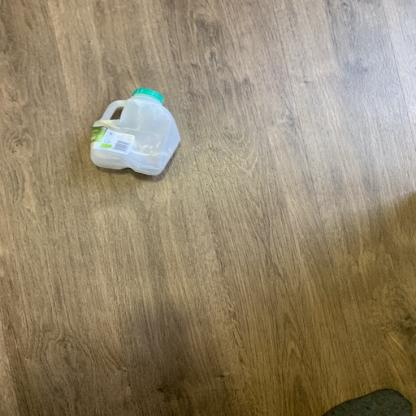trash: (86, 88, 182, 177)
